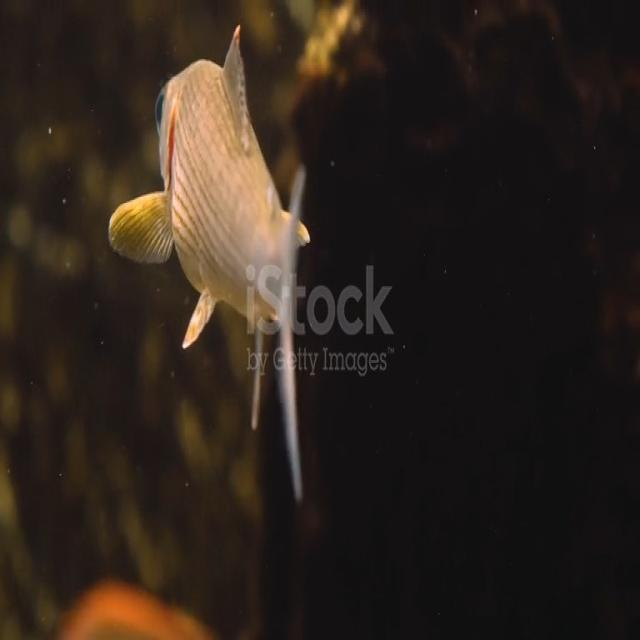fish: (107, 25, 316, 485)
